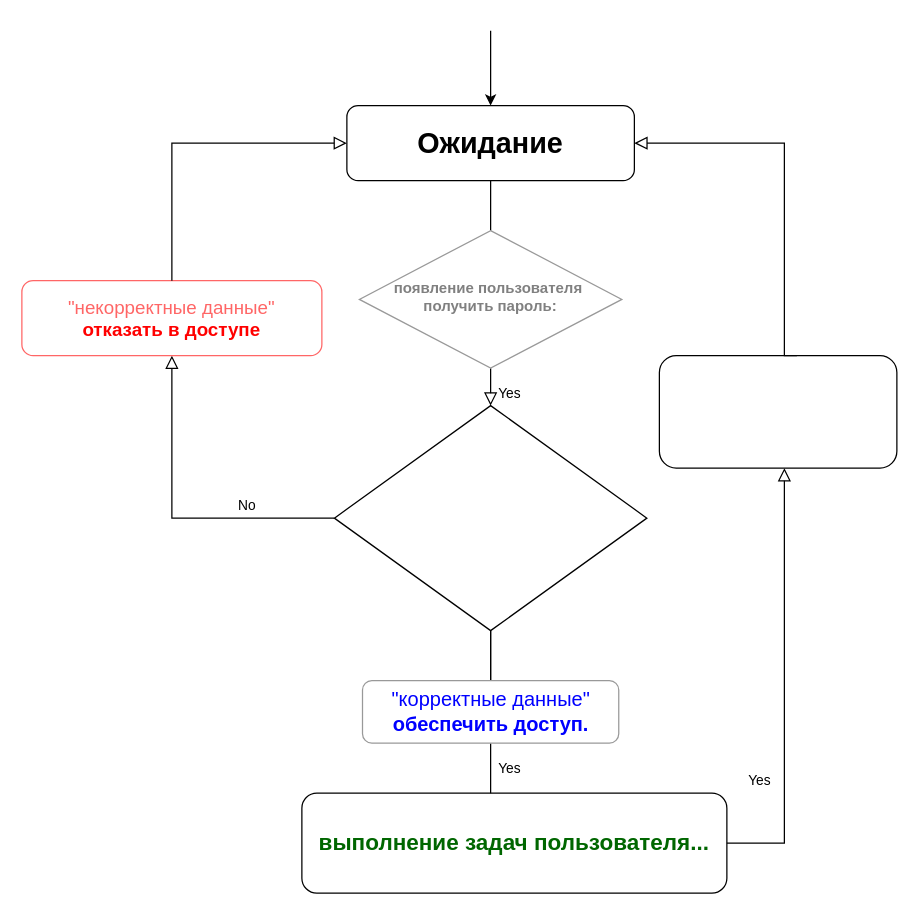
Image size: 919x915. Some labels were removed from this diagram. Here are the shapes that lost their labels. From the top down, the box of each, then its label:
(658, 354, 897, 468): "завершение работы пользователя" сохранить информацию
(333, 404, 647, 631): авторизация доступа
